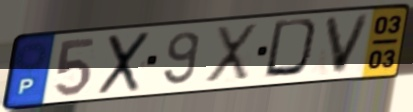5: (50, 35, 101, 98)
9: (161, 30, 202, 87)
D: (261, 16, 325, 80)
V: (322, 11, 375, 76)
X: (94, 29, 153, 98), (203, 22, 260, 84)
